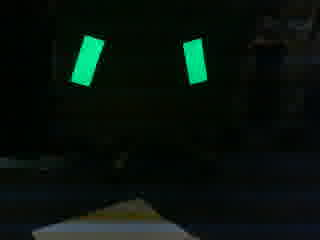target: (62, 35, 210, 88)
